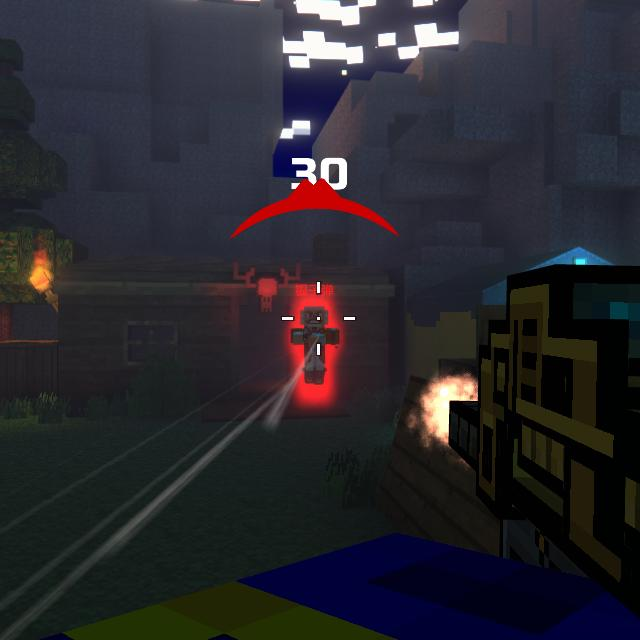Enemy: (290, 306, 340, 385)
